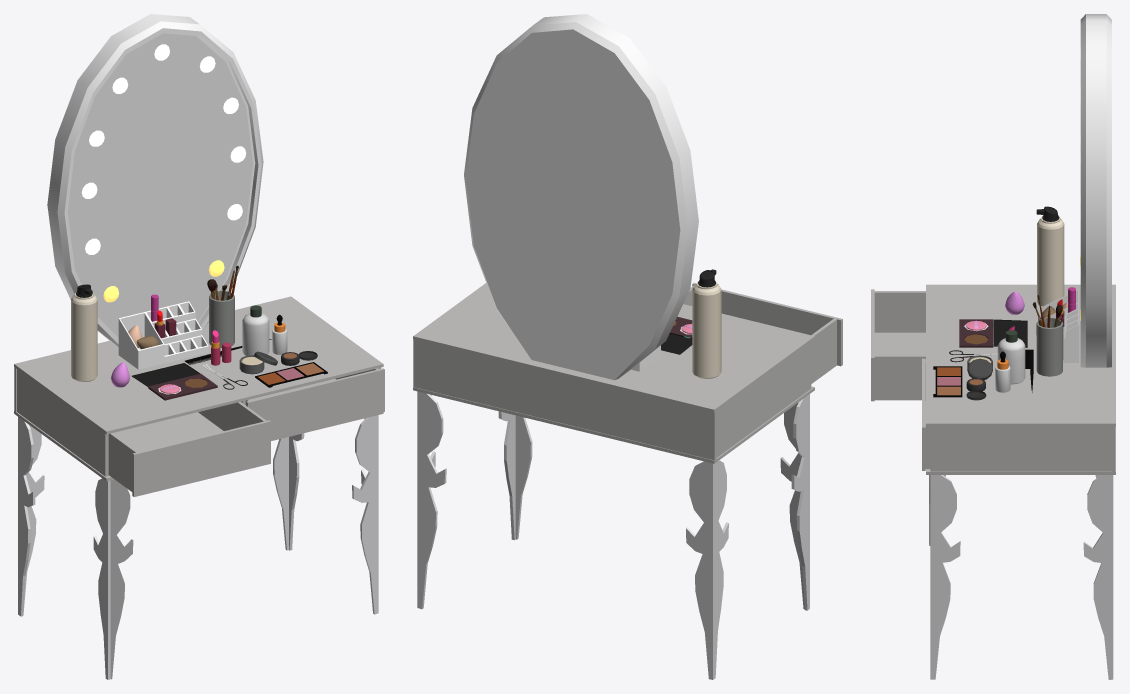
Rendered from vanity_table_02.glb.
3 renders of one model, left to right at view 1: azimuth 30°, elevation 25°; view 2: azimuth 150°, elevation 25°; view 3: azimuth 270°, elevation 25°, orthographic. The views are drawn at different scales.
Parts seen in each view (by area): view 1: Object_34_RandomColor_33_0, Object_24_RandomColor_24_0, Object_33_RandomColor_32_0, Object_18_RandomColor_19_0, Object_13_RandomColor_14_0, Object_21_RandomColor_21_0, Object_90_RandomColor_9_0, Object_59_RandomColor_6_0, Object_69_RandomColor_7_0, Object_8_RandomColor_104_0, Object_15_RandomColor_16_0, Object_41_RandomColor_4_0 (+12 smaller); view 2: Object_33_RandomColor_32_0, Object_23_RandomColor_23_0, Object_24_RandomColor_24_0, Object_21_RandomColor_21_0, Object_51_RandomColor_5_0, Object_19_RandomColor_2_0, Object_18_RandomColor_19_0, Object_8_RandomColor_104_0, Object_69_RandomColor_7_0, Object_41_RandomColor_4_0, Object_25_RandomColor_25_0, Object_90_RandomColor_9_0 (+4 smaller); view 3: Object_24_RandomColor_24_0, Object_33_RandomColor_32_0, Object_22_RandomColor_22_0, Object_30_RandomColor_3_0, Object_79_RandomColor_8_0, Object_8_RandomColor_104_0, Object_14_RandomColor_15_0, Object_16_RandomColor_17_0, Object_64_RandomColor_64_0, Object_15_RandomColor_16_0, Object_6_RandomColor_102_0, Object_42_RandomColor_40_0 (+8 smaller).
Part boxes in pixels (box(x1,y1,x2,y2)): Object_34_RandomColor_33_0: box(67, 33, 252, 337); Object_24_RandomColor_24_0: box(14, 296, 383, 434); Object_33_RandomColor_32_0: box(47, 14, 263, 347); Object_18_RandomColor_19_0: box(132, 420, 270, 496); Object_13_RandomColor_14_0: box(246, 368, 384, 439); Object_21_RandomColor_21_0: box(17, 369, 108, 476); Object_90_RandomColor_9_0: box(352, 415, 378, 614); Object_59_RandomColor_6_0: box(110, 479, 133, 679); Object_69_RandomColor_7_0: box(93, 478, 110, 679); Object_8_RandomColor_104_0: box(71, 293, 97, 381); Object_15_RandomColor_16_0: box(113, 412, 223, 451); Object_41_RandomColor_4_0: box(19, 418, 35, 616); Object_33_RandomColor_32_0: box(464, 14, 698, 380); Object_23_RandomColor_23_0: box(413, 339, 716, 460); Object_24_RandomColor_24_0: box(413, 283, 814, 412); Object_21_RandomColor_21_0: box(716, 342, 811, 457); Object_51_RandomColor_5_0: box(686, 461, 714, 679); Object_19_RandomColor_2_0: box(420, 392, 446, 609); Object_18_RandomColor_19_0: box(692, 282, 842, 366); Object_8_RandomColor_104_0: box(692, 281, 721, 378); Object_69_RandomColor_7_0: box(791, 394, 809, 610); Object_41_RandomColor_4_0: box(714, 460, 728, 678); Object_25_RandomColor_25_0: box(413, 386, 814, 463); Object_90_RandomColor_9_0: box(515, 415, 532, 539); Object_24_RandomColor_24_0: box(926, 284, 1115, 426); Object_33_RandomColor_32_0: box(1080, 14, 1111, 367); Object_22_RandomColor_22_0: box(930, 426, 1111, 471); Object_30_RandomColor_3_0: box(1083, 475, 1113, 679); Object_79_RandomColor_8_0: box(933, 475, 960, 679); Object_8_RandomColor_104_0: box(1037, 216, 1064, 306); Object_14_RandomColor_15_0: box(874, 355, 925, 400); Object_16_RandomColor_17_0: box(872, 291, 925, 332); Object_64_RandomColor_64_0: box(1036, 318, 1063, 376); Object_15_RandomColor_16_0: box(874, 332, 925, 355); Object_6_RandomColor_102_0: box(997, 338, 1025, 384); Object_42_RandomColor_40_0: box(1063, 303, 1078, 362).
Bounding box in the file's own units: 1624 × 3202 × 1210.
